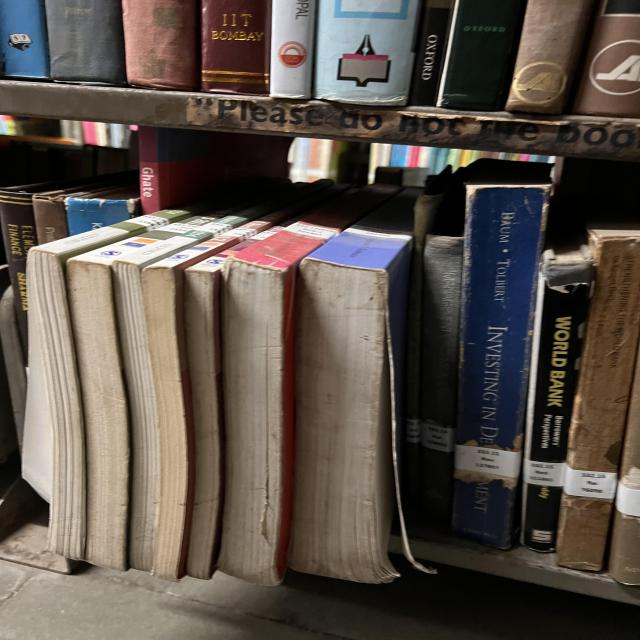Book: (218, 184, 400, 586), (112, 198, 287, 570), (67, 211, 228, 570), (27, 210, 188, 560), (288, 188, 422, 584), (142, 221, 273, 580), (438, 159, 552, 549), (183, 226, 282, 579), (557, 229, 640, 570), (520, 271, 588, 552), (420, 234, 463, 519), (608, 350, 640, 585)
Label: (455, 445, 522, 478), (563, 466, 617, 499), (523, 460, 567, 488), (420, 422, 455, 452), (285, 221, 340, 239), (615, 482, 640, 516)
